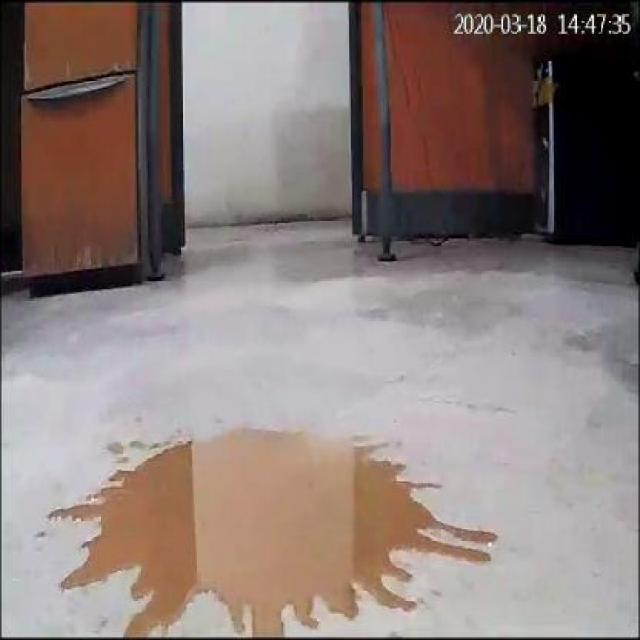spill: (49, 416, 502, 638)
